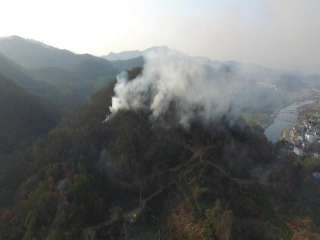smoke: (101, 32, 265, 130)
